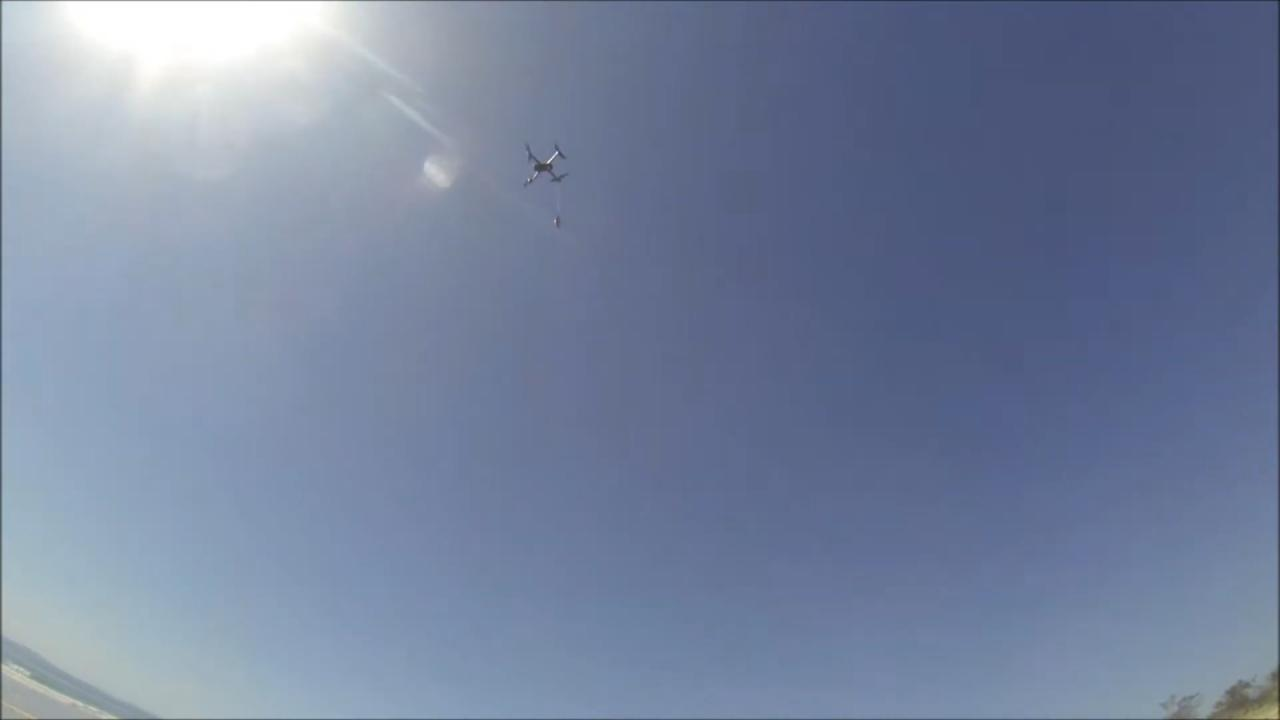Drone: (511, 134, 578, 198)
